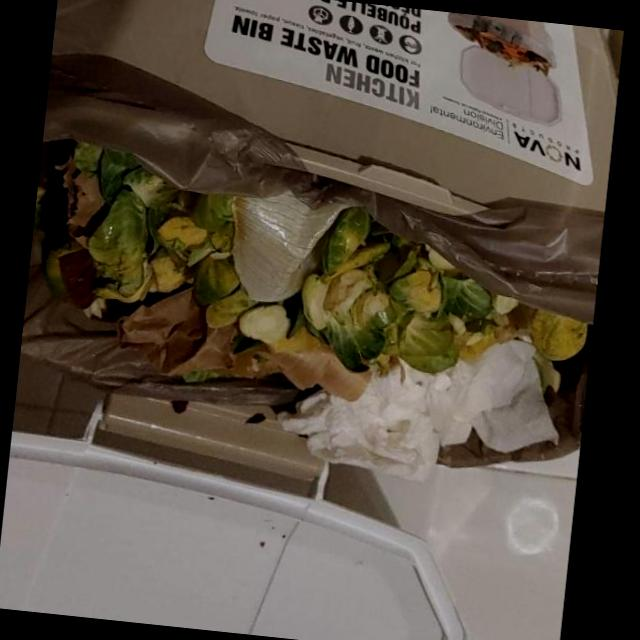giay: (276, 339, 555, 482)
vo_rau_cu: (112, 286, 370, 402), (39, 139, 148, 303), (299, 206, 398, 372), (93, 189, 230, 299), (230, 191, 335, 299), (384, 271, 491, 374), (187, 249, 237, 317), (526, 312, 586, 362), (124, 163, 179, 208), (237, 304, 289, 350), (204, 284, 255, 328)
